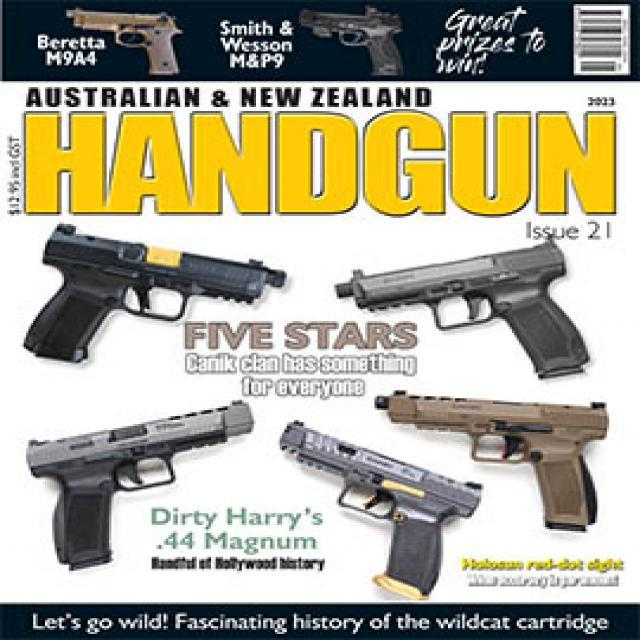pistol: (11, 401, 258, 581), (23, 215, 270, 362), (280, 429, 480, 589), (377, 389, 616, 515), (335, 237, 584, 351)
